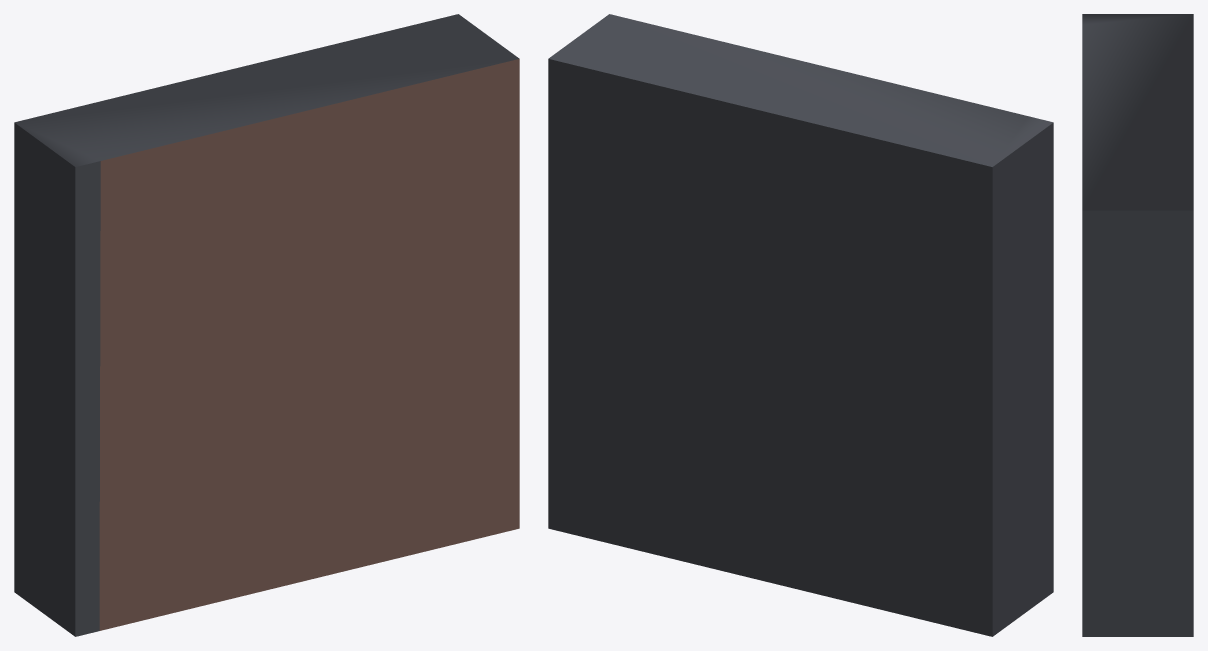
Rendered from GreyStoneEdgeLargeLightSoilFlooringStraight1.fbx.
The picture shows the model from 3 angles, left to right: view 1: azimuth 30°, elevation 25°; view 2: azimuth 150°, elevation 25°; view 3: azimuth 270°, elevation 25°; orthographic projection. The views are drawn at different scales.
Visible parts, largest first — view 1: SoilSurface, StoneSurface; view 2: StoneSurface; view 3: StoneSurface.
Part boxes in pixels (bbox=[...]): SoilSurface: bbox=[99, 59, 519, 630]; StoneSurface: bbox=[14, 14, 519, 636]; StoneSurface: bbox=[548, 14, 1053, 636]; StoneSurface: bbox=[1082, 14, 1193, 636].
Bounding box in the file's own units: 1199 × 1212 × 286.
Materials: 2 (2 with a texture image).
